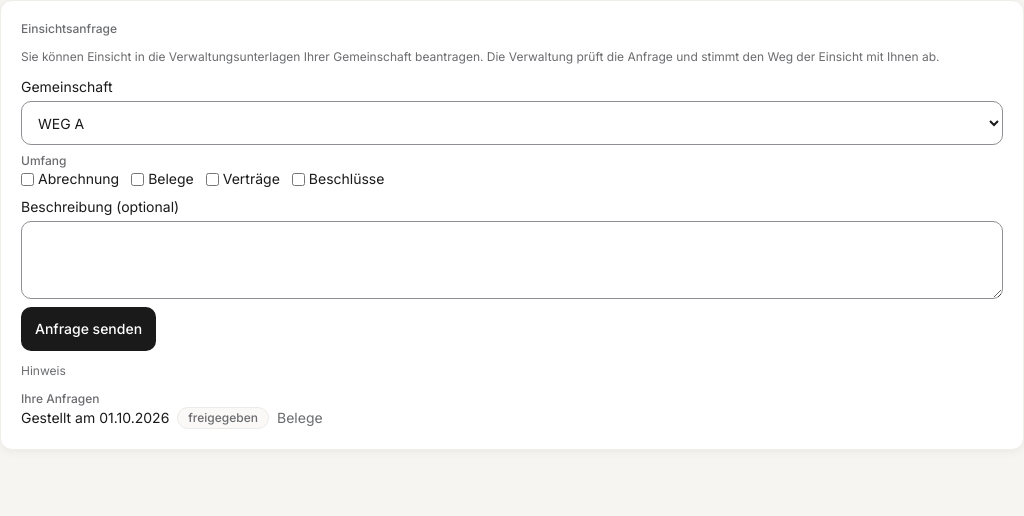
it: OwnerInspectionPanel › posts the request for the chosen community
Select "WEG B" in the dropdown: (512, 123) x1=21 y1=101 x2=1003 y2=145
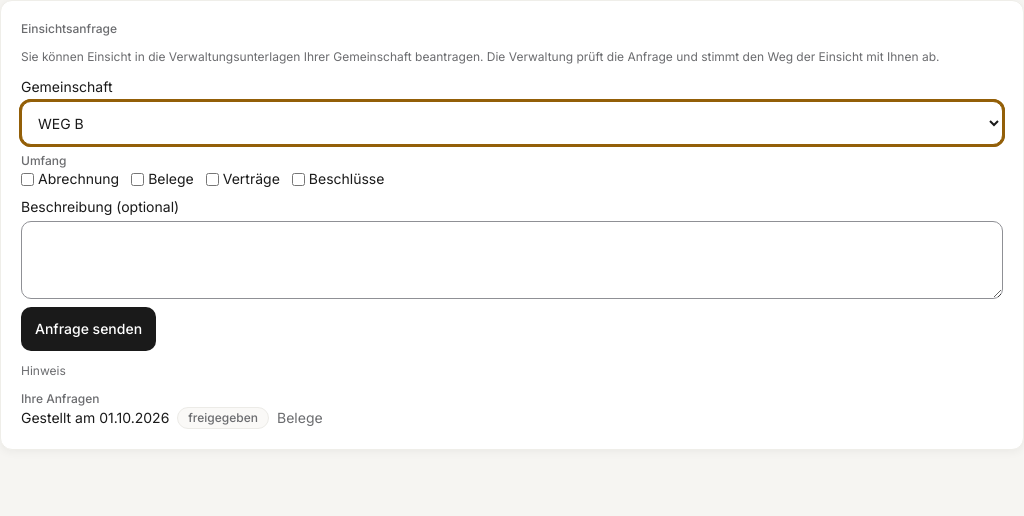
Click the checkbox labelled "Belege": (138, 179) x1=131 y1=172 x2=144 y2=186
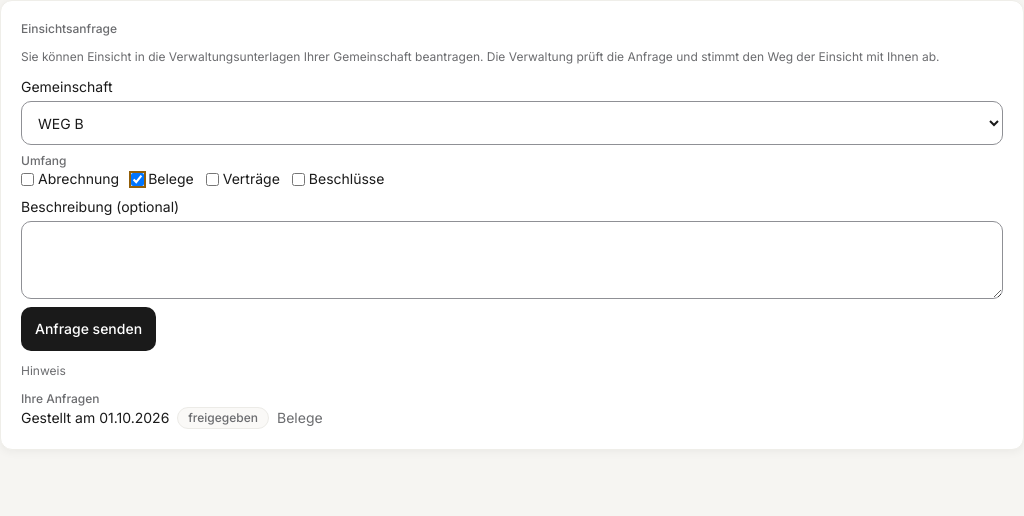
Click the button "Anfrage senden": (89, 329) x1=21 y1=307 x2=156 y2=351
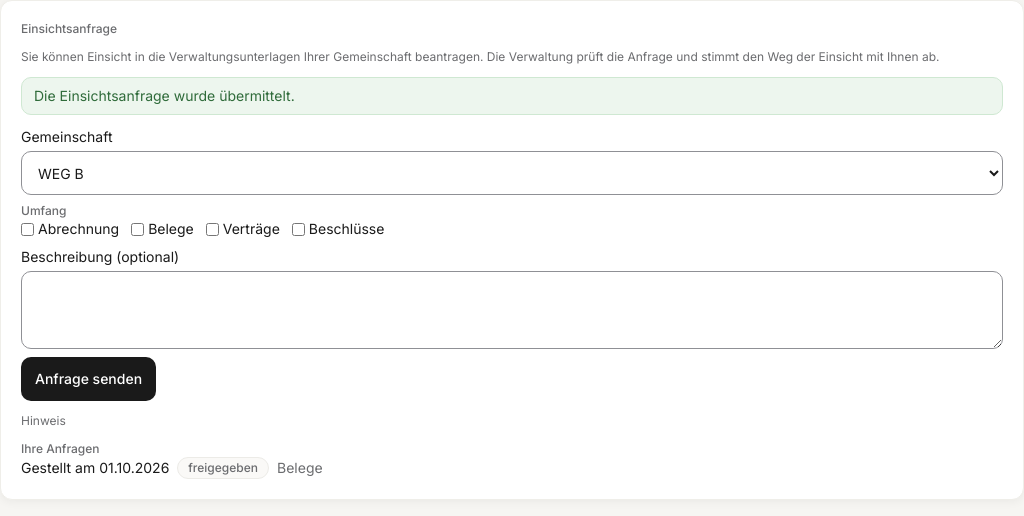
Expected: the text "Die Einsichtsanfrage wurde übermittelt." is shown, x1=21 y1=77 x2=1003 y2=115
